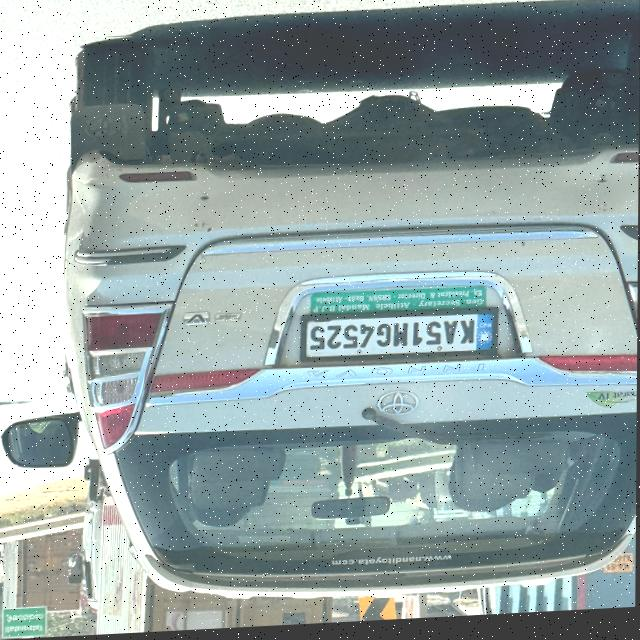plate: (294, 306, 504, 377)
